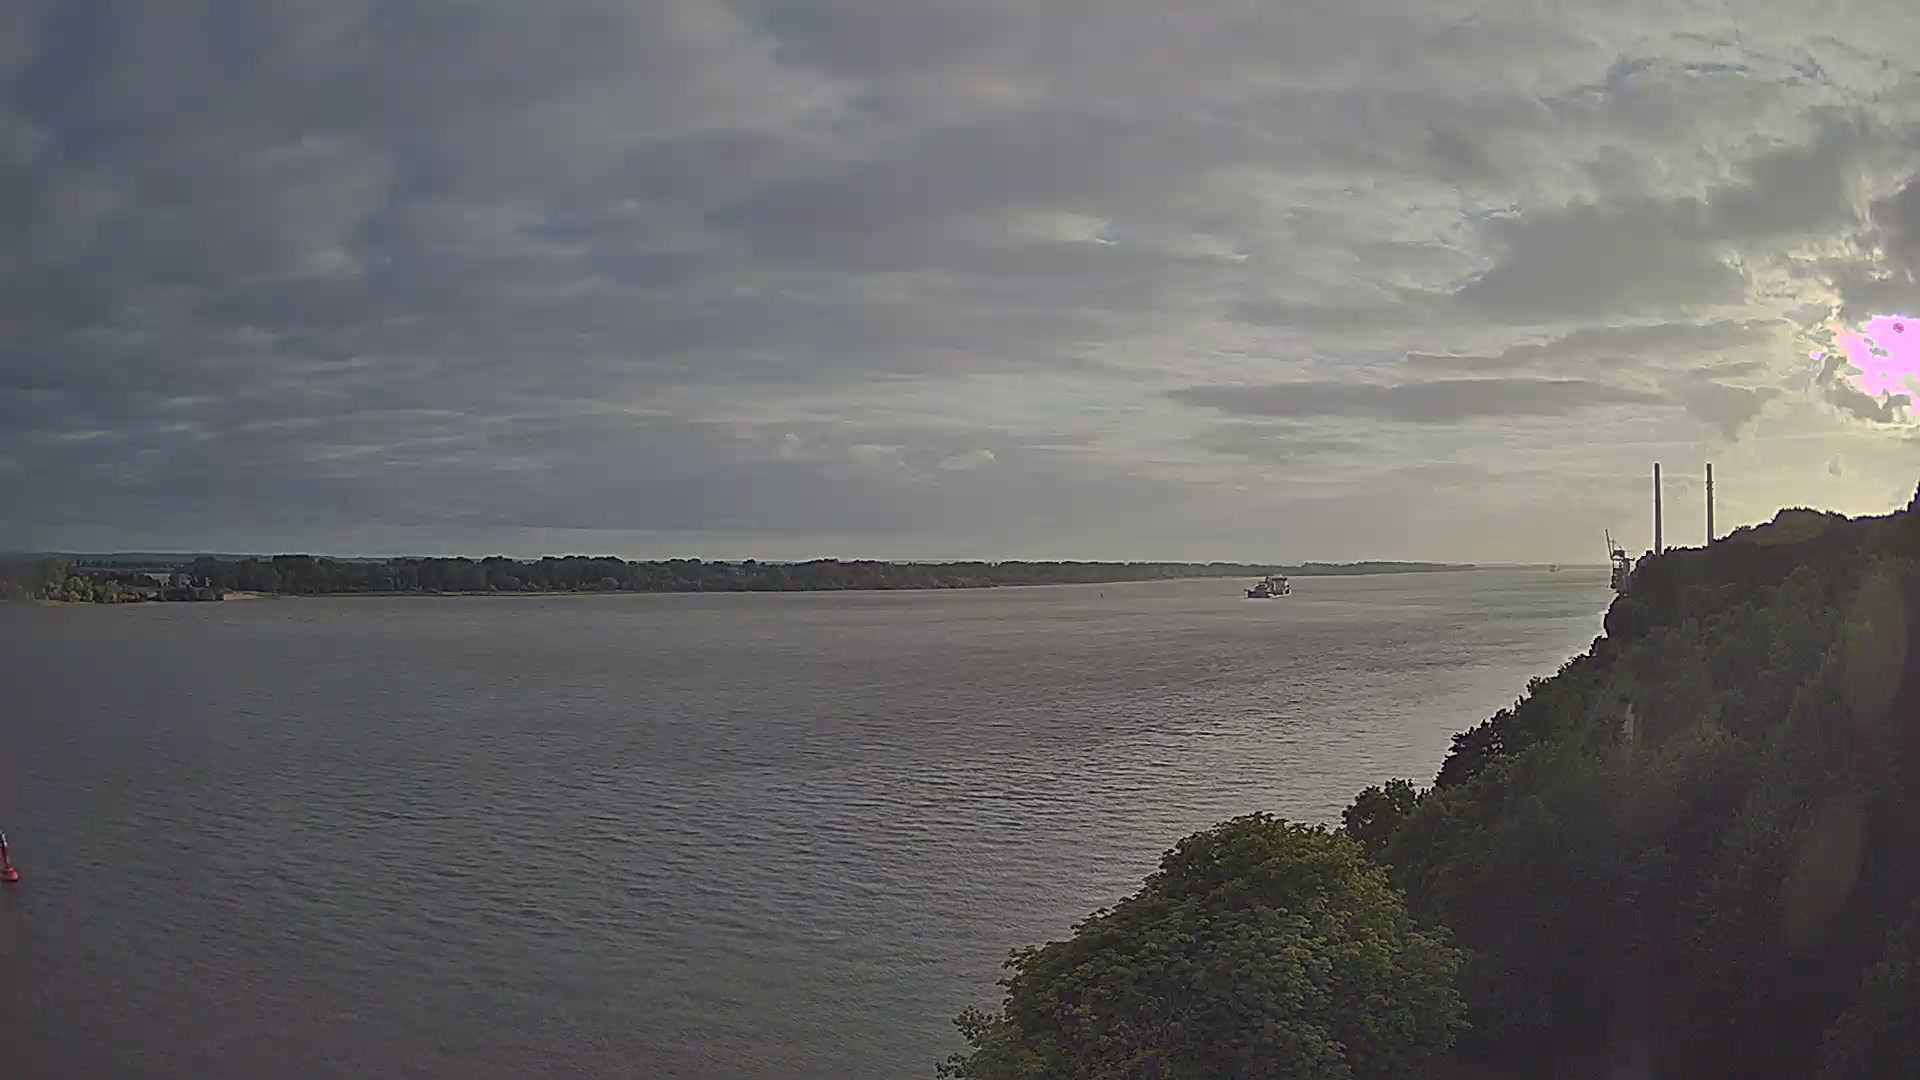sea: (1244, 572, 1291, 599), (1545, 564, 1557, 572)
